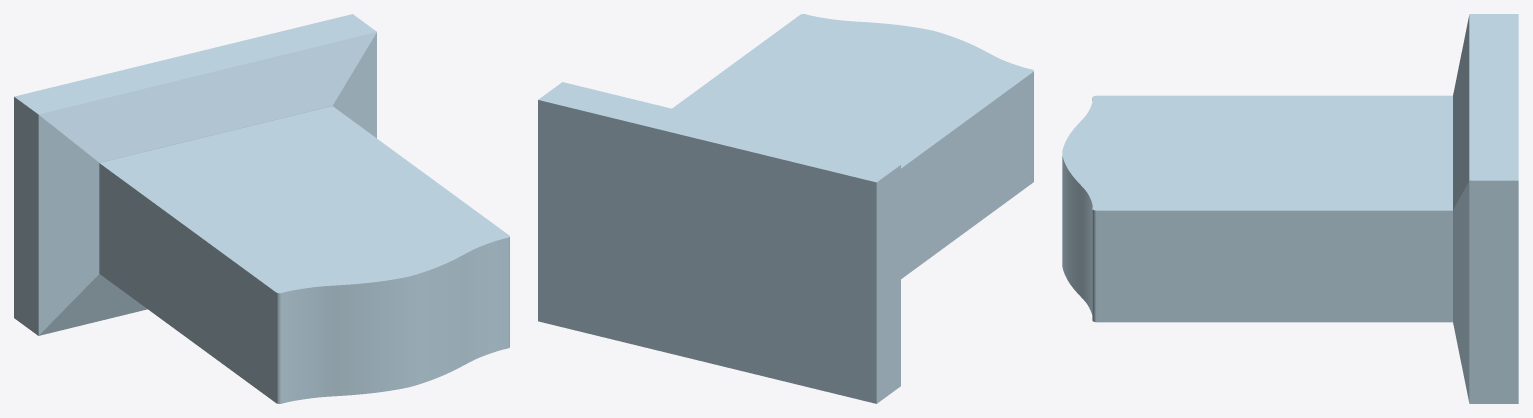
3 renders of one model, left to right at view 1: azimuth 30°, elevation 25°; view 2: azimuth 150°, elevation 25°; view 3: azimuth 270°, elevation 25°, orthographic.
Visible parts, largest first — view 1: PA-233-F_LOD0; view 2: PA-233-F_LOD0; view 3: PA-233-F_LOD0.
Part boxes in pixels (box(x1,y1,x2,y2)): PA-233-F_LOD0: box(14, 14, 509, 403); PA-233-F_LOD0: box(538, 14, 1033, 403); PA-233-F_LOD0: box(1062, 14, 1518, 403).
Size of what is drawn, in the model's own units: 60.96 by 38.1 by 70.57.
